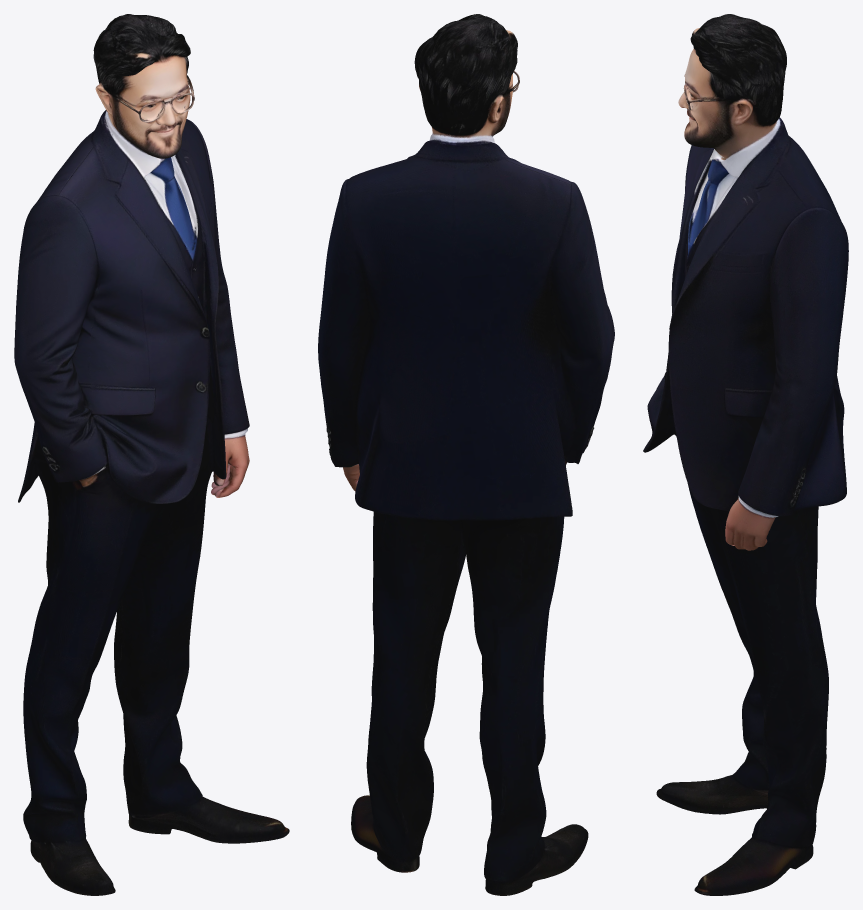
The picture shows the model from 3 angles, left to right: view 1: azimuth 30°, elevation 25°; view 2: azimuth 150°, elevation 25°; view 3: azimuth 270°, elevation 25°; orthographic projection. The views are drawn at different scales.
Parts seen in each view (by area): view 1: mesh_node; view 2: mesh_node; view 3: mesh_node.
Part boxes in pixels (x1,y1,x2,y2): mesh_node: [14, 14, 289, 895]; mesh_node: [318, 14, 614, 895]; mesh_node: [643, 14, 848, 895].
Size of the model in its own units: 0.6214 by 1.9 by 0.4329.
Materials: 1 (1 with a texture image).
